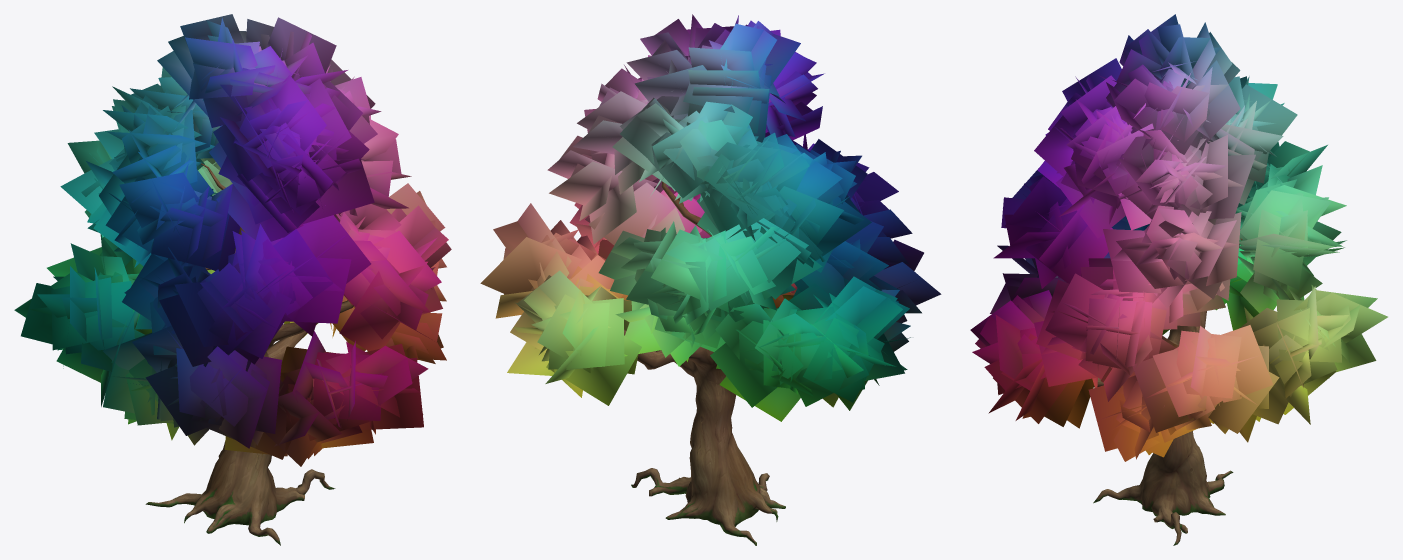
3 views of the same model, side by side, from view 1: azimuth 30°, elevation 25°; view 2: azimuth 150°, elevation 25°; view 3: azimuth 270°, elevation 25° (orthographic). The views are drawn at different scales.
Parts seen in each view (by area): view 1: zw_gc_002c1_lod0, zw_gc_002c2_lod0; view 2: zw_gc_002c1_lod0, zw_gc_002c2_lod0; view 3: zw_gc_002c1_lod0, zw_gc_002c2_lod0.
Boxes of the visible parts, x1=… form: zw_gc_002c1_lod0: x1=14, y1=14, x2=451, y2=466; zw_gc_002c2_lod0: x1=145, y1=163, x2=353, y2=545; zw_gc_002c1_lod0: x1=480, y1=14, x2=941, y2=421; zw_gc_002c2_lod0: x1=624, y1=181, x2=785, y2=545; zw_gc_002c1_lod0: x1=970, y1=14, x2=1387, y2=461; zw_gc_002c2_lod0: x1=1093, y1=238, x2=1242, y2=545.
Size of what is drawn, in the model's own units: 8.94 by 10.34 by 8.29.
